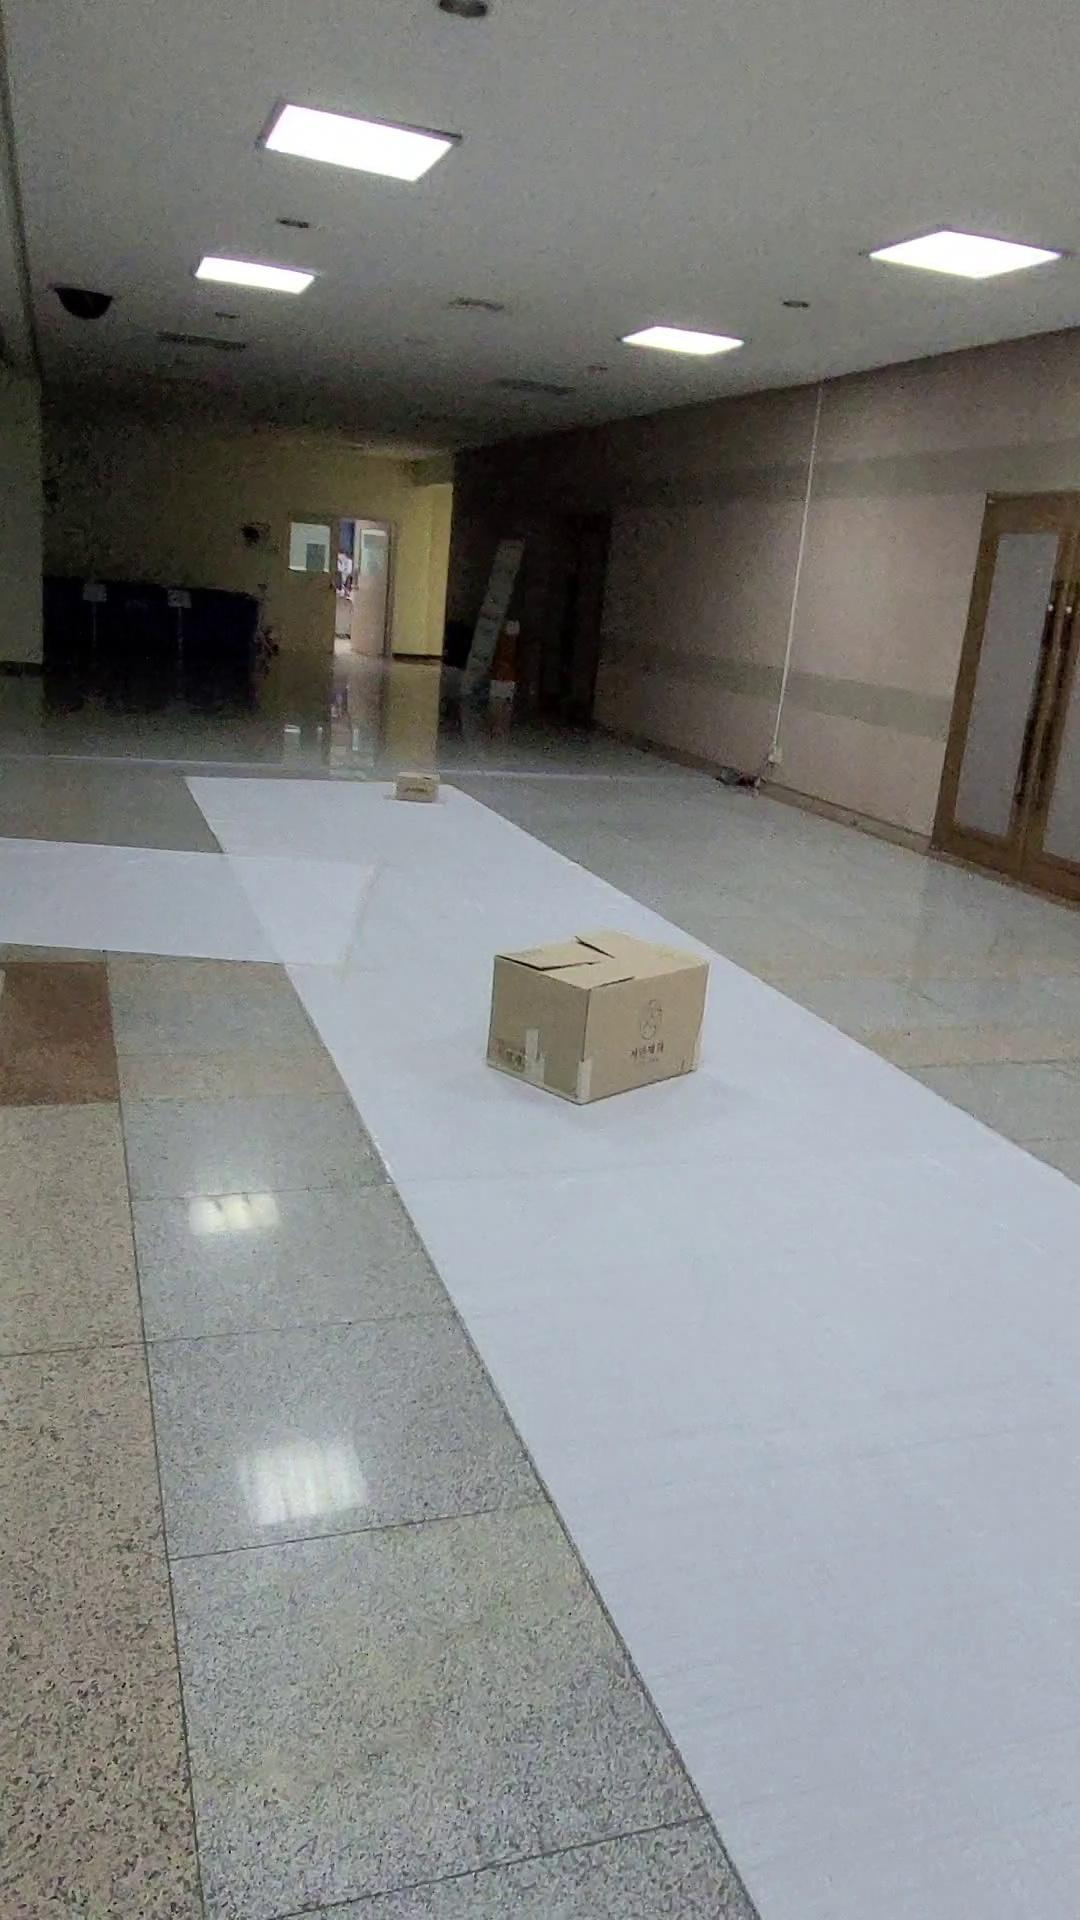Box: (440, 915, 712, 1127), (353, 740, 472, 837)
